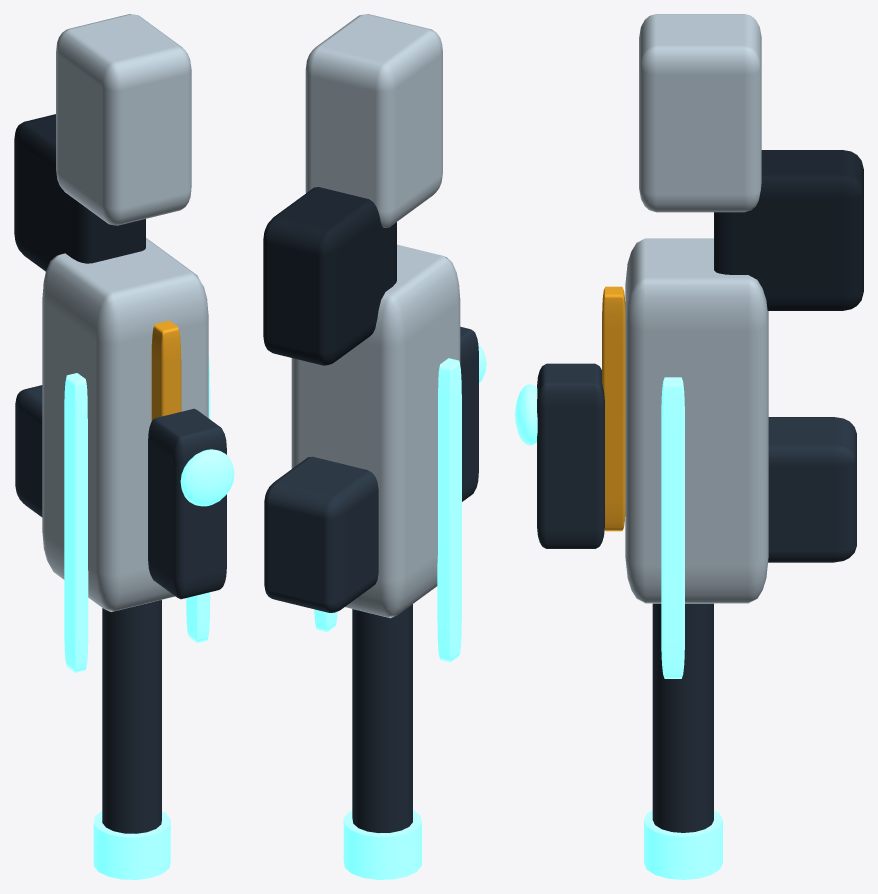
File: rifle-4.glb
The picture shows the model from 3 angles, left to right: view 1: azimuth 30°, elevation 25°; view 2: azimuth 150°, elevation 25°; view 3: azimuth 270°, elevation 25°; orthographic projection.
Size of the model in its own units: 0.2491 by 1.43 by 0.5427.
